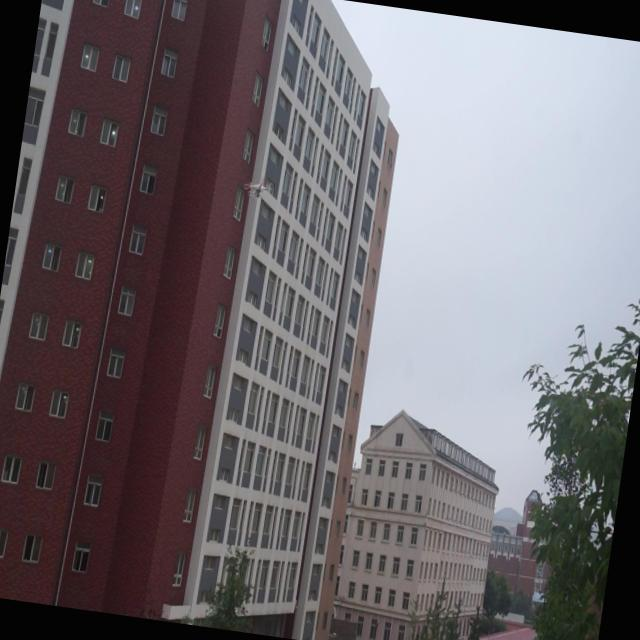drone: (238, 170, 274, 207)
